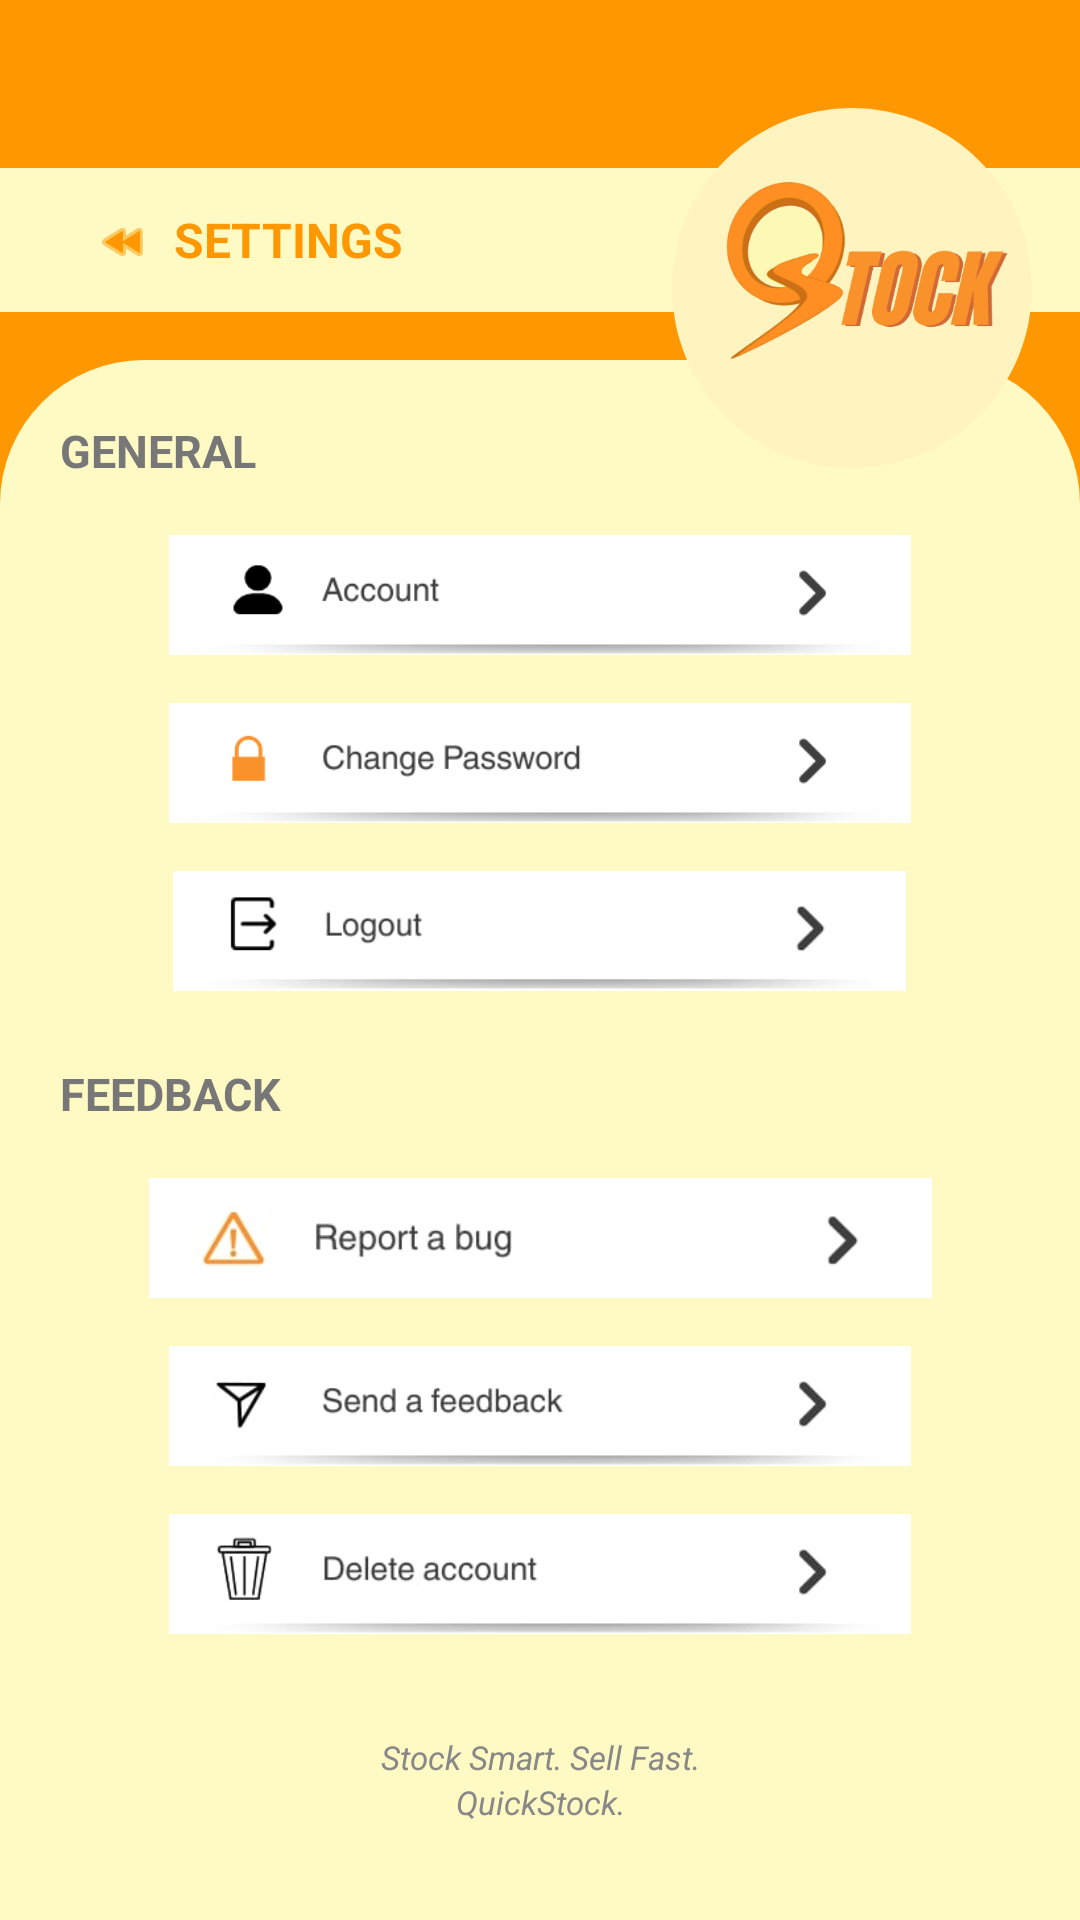

Icon click points for this 1080×1920 phone screenshot, format [x,y]:
Back: [122,242]
